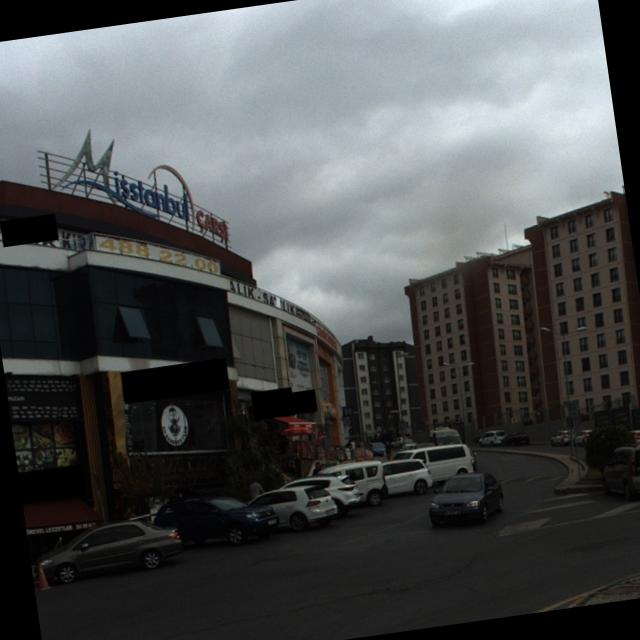SignStore: (18, 468, 86, 499), (121, 372, 230, 391), (0, 221, 59, 240), (252, 393, 295, 415), (291, 393, 318, 412)
